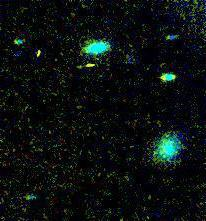star: (72, 48, 102, 78)
